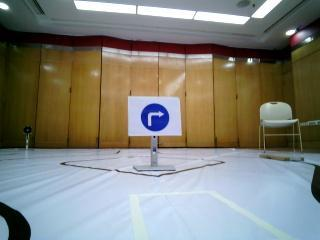right: (129, 94, 181, 135)
